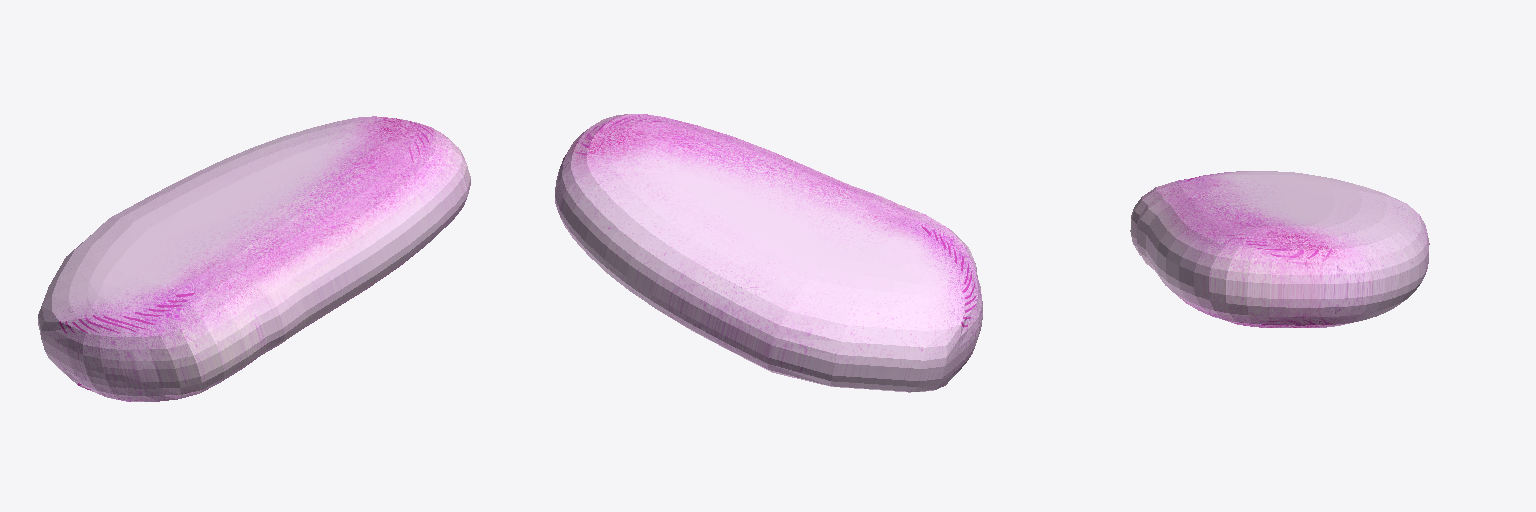
3 renders of one model, left to right at view 1: azimuth 30°, elevation 25°; view 2: azimuth 150°, elevation 25°; view 3: azimuth 270°, elevation 25°, orthographic.
Parts seen in each view (by area): view 1: Cloud_Maru_B; view 2: Cloud_Maru_B; view 3: Cloud_Maru_B.
Boxes of the visible parts, x1=… form: Cloud_Maru_B: x1=38, y1=116, x2=470, y2=401; Cloud_Maru_B: x1=555, y1=114, x2=982, y2=392; Cloud_Maru_B: x1=1130, y1=171, x2=1429, y2=327.
Size of the model in its own units: 0.6799 by 0.2936 by 0.4476.
Materials: 1 (1 with a texture image).